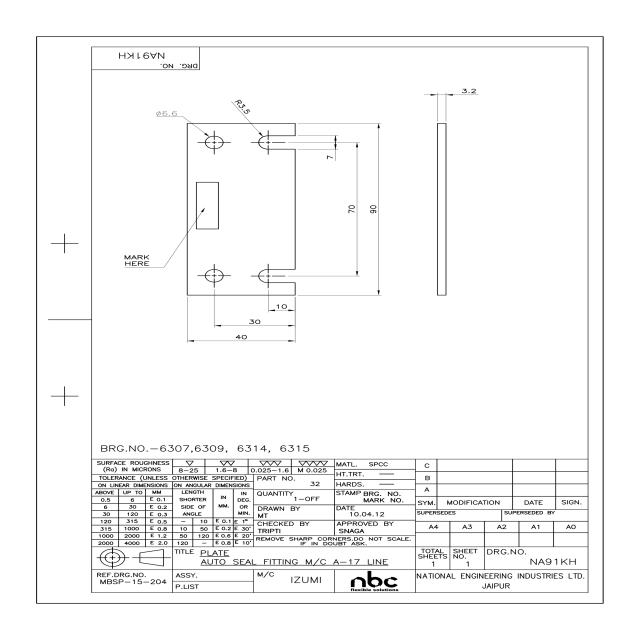dimension: (232, 97, 255, 115), (156, 109, 178, 117), (368, 203, 378, 215), (347, 203, 357, 214), (460, 88, 478, 94), (274, 303, 288, 310), (248, 318, 262, 325), (234, 334, 248, 340), (325, 154, 335, 161)
